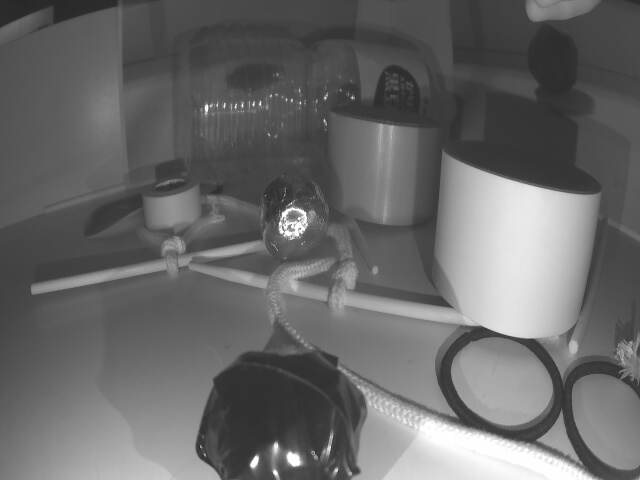Dead: (197, 334, 368, 480)
Live: (260, 172, 329, 263)
